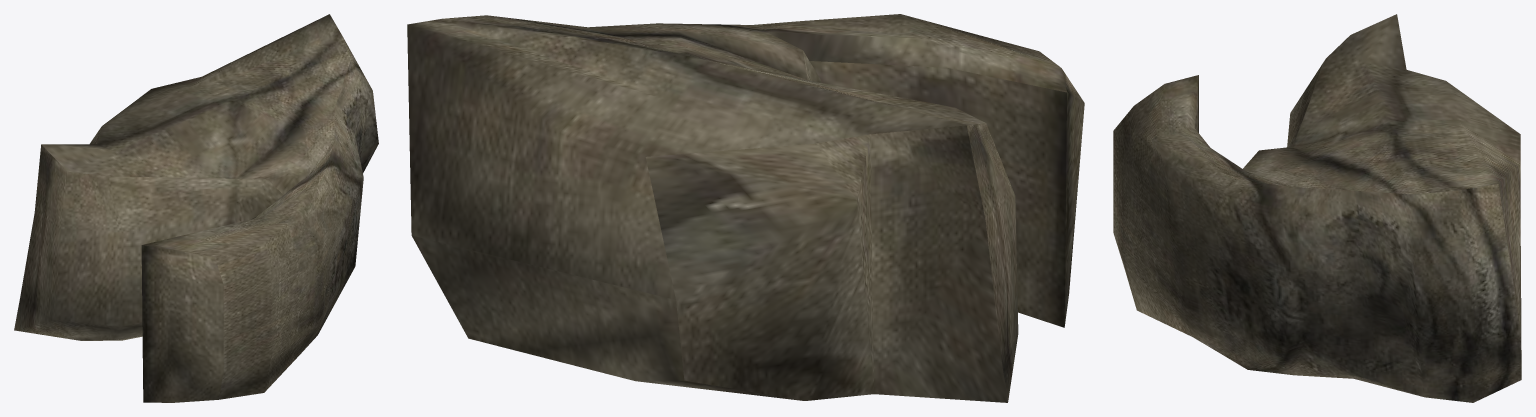
The model's file is military_sandbag_group_exploded_left.glb.
3 renders of one model, left to right at view 1: azimuth 30°, elevation 25°; view 2: azimuth 150°, elevation 25°; view 3: azimuth 270°, elevation 25°, orthographic. The views are drawn at different scales.
Bounding box in the file's own units: 32.7 × 18.34 × 26.16.
1 material, 1 textured.
